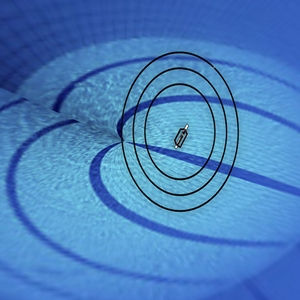circle: (116, 42, 248, 231)
submarine: (171, 115, 197, 158)
